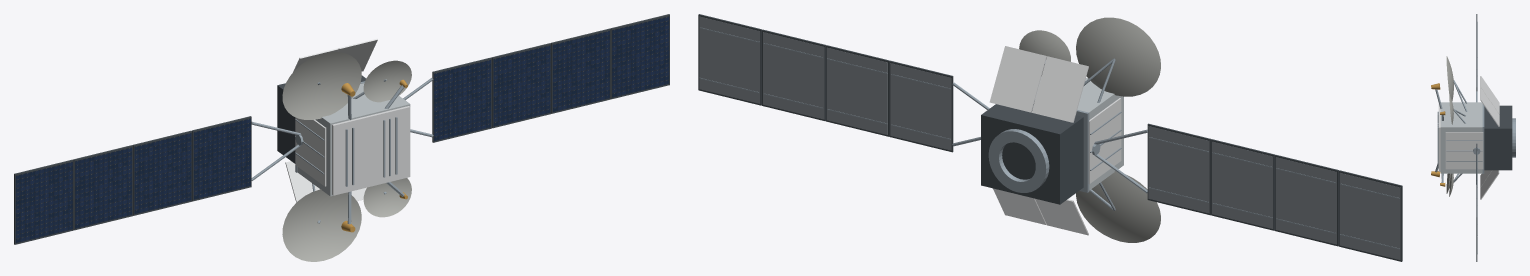
The model's file is hughes-601hp-galaxy-8i.glb.
3 renders of one model, left to right at view 1: azimuth 30°, elevation 25°; view 2: azimuth 150°, elevation 25°; view 3: azimuth 270°, elevation 25°, orthographic. The views are drawn at different scales.
Parts seen in each view (by area): view 1: Solar cell panel (×8), Communications reflector (×4), Earth-facing deck, Solar panel frame (×8), Payload module, Radiator face, Deployed radiator leaf (×2), Service module; view 2: Rear array substrate (×8), Communications reflector (×3), Deployed radiator leaf (×4), Service module, Solar panel frame (×8), Launch adapter ring, Radiator face, Payload module, Module interface; view 3: Service module, Payload module, Radiator face, Deployed radiator leaf (×4), Communications reflector (×4), Earth-facing deck, Module interface, Launch adapter ring, Solar panel frame, Shell hinge strut, Deck heat pipe.
Boxes of the visible parts, x1,y1,x2,y2 form: Solar cell panel (×8): (15, 16, 669, 243); Communications reflector (×4): (282, 52, 411, 261); Earth-facing deck: (332, 106, 410, 195); Solar panel frame (×8): (14, 14, 669, 244); Payload module: (297, 83, 410, 196); Radiator face: (295, 117, 326, 186); Deployed radiator leaf (×2): (285, 38, 377, 202); Service module: (277, 75, 366, 163); Rear array substrate (×8): (699, 16, 1400, 260); Communications reflector (×3): (1019, 17, 1160, 242); Deployed radiator leaf (×4): (989, 46, 1088, 235); Service module: (981, 104, 1083, 204); Solar panel frame (×8): (698, 14, 1402, 261); Launch adapter ring: (988, 129, 1049, 192); Radiator face: (1088, 98, 1121, 183); Payload module: (1035, 77, 1123, 190); Module interface: (1033, 99, 1089, 192); Service module: (1484, 105, 1512, 170); Payload module: (1440, 102, 1482, 173); Radiator face: (1445, 132, 1483, 169); Deployed radiator leaf (×4): (1480, 76, 1499, 199); Communications reflector (×4): (1446, 56, 1453, 196); Earth-facing deck: (1438, 104, 1440, 171); Module interface: (1482, 104, 1484, 173); Launch adapter ring: (1512, 118, 1515, 157); Solar panel frame: (1476, 199, 1477, 261); Shell hinge strut: (1453, 80, 1467, 111); Deck heat pipe: (1437, 127, 1438, 163).
Size of the model in its own units: 26.18 by 7.92 by 4.62.
Materials: 8 (1 with a texture image).
